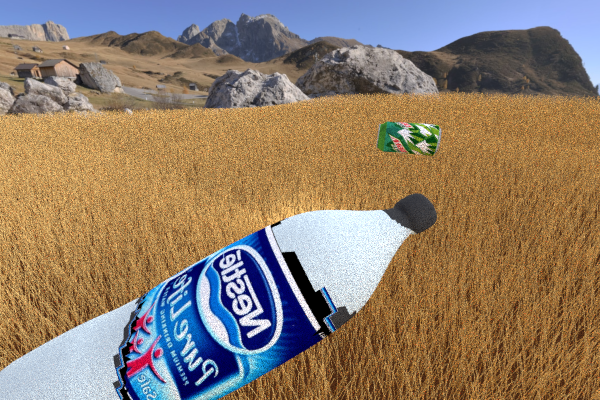Plastic Bottle: (0, 193, 437, 400), (376, 121, 441, 155)
